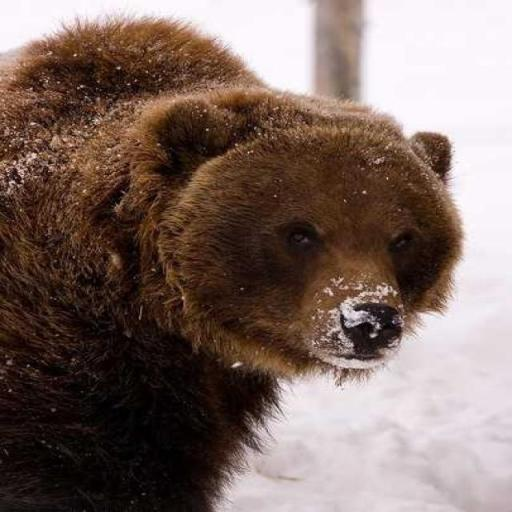Bear: (0, 12, 464, 511)
